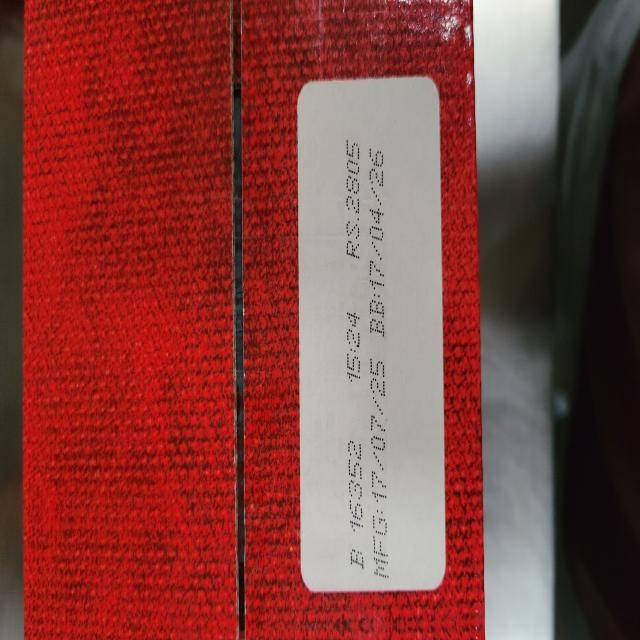BB: (369, 144, 390, 341)
Batch: (345, 434, 368, 574)
MFG: (368, 349, 394, 581)
RS: (344, 139, 363, 262)
TimeStamp: (346, 306, 362, 388)
